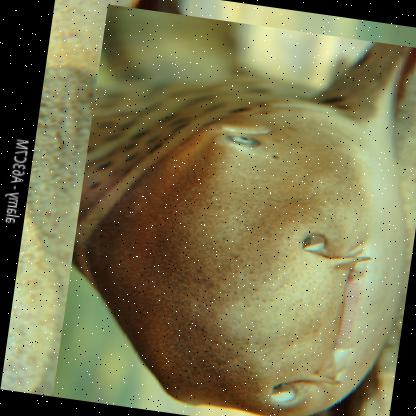zebra_shark: (50, 3, 415, 415)
